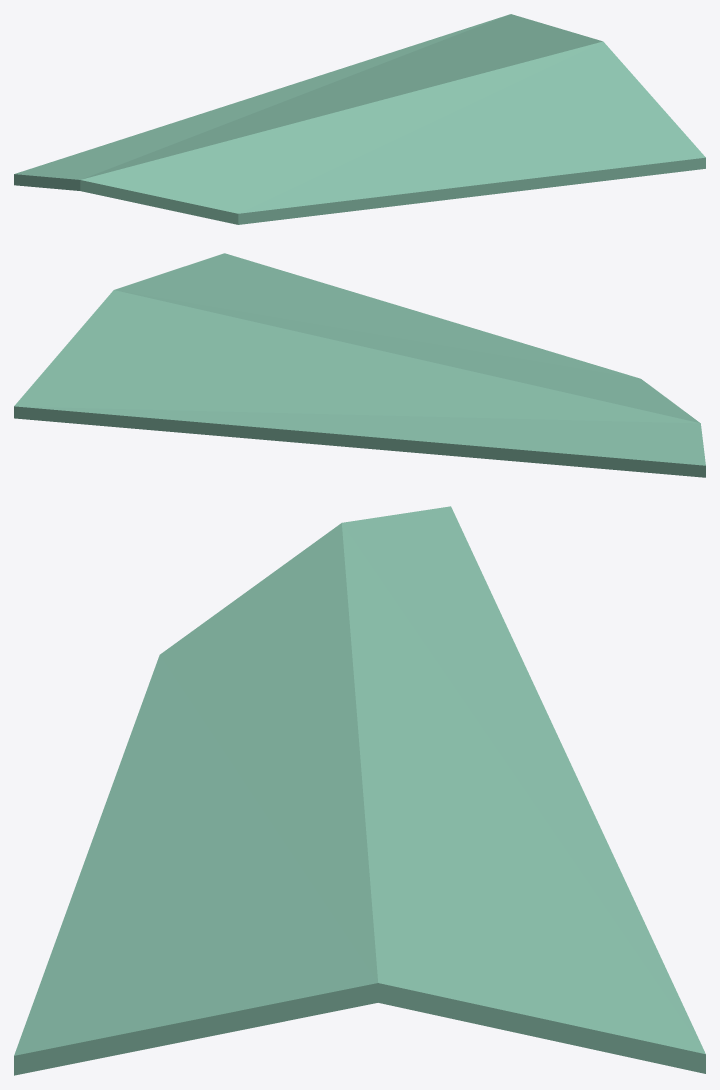
The model's file is SH_Bird_Wing_Mint.fbx.
3 views of the same model, one above another, from view 1: azimuth 30°, elevation 25°; view 2: azimuth 150°, elevation 25°; view 3: azimuth 270°, elevation 25° (orthographic). The views are drawn at different scales.
Visible parts, largest first — view 1: SH_Bird_Wing_Mint; view 2: SH_Bird_Wing_Mint; view 3: SH_Bird_Wing_Mint.
Boxes of the visible parts, bbox=[...] form: SH_Bird_Wing_Mint: bbox=[14, 14, 705, 224]; SH_Bird_Wing_Mint: bbox=[14, 253, 705, 477]; SH_Bird_Wing_Mint: bbox=[14, 506, 705, 1075].
Bounding box in the file's own units: 0.16 × 0.014 × 0.095.
